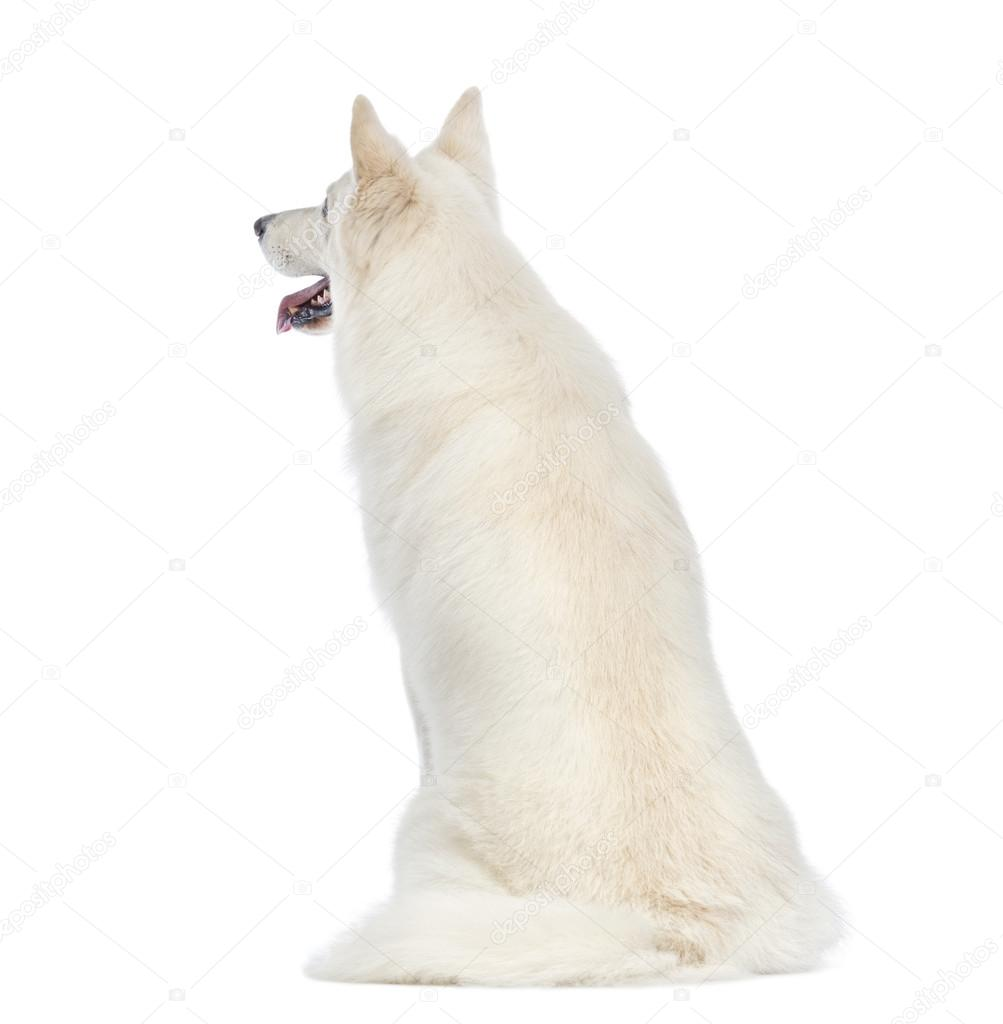dog: (250, 89, 875, 988)
